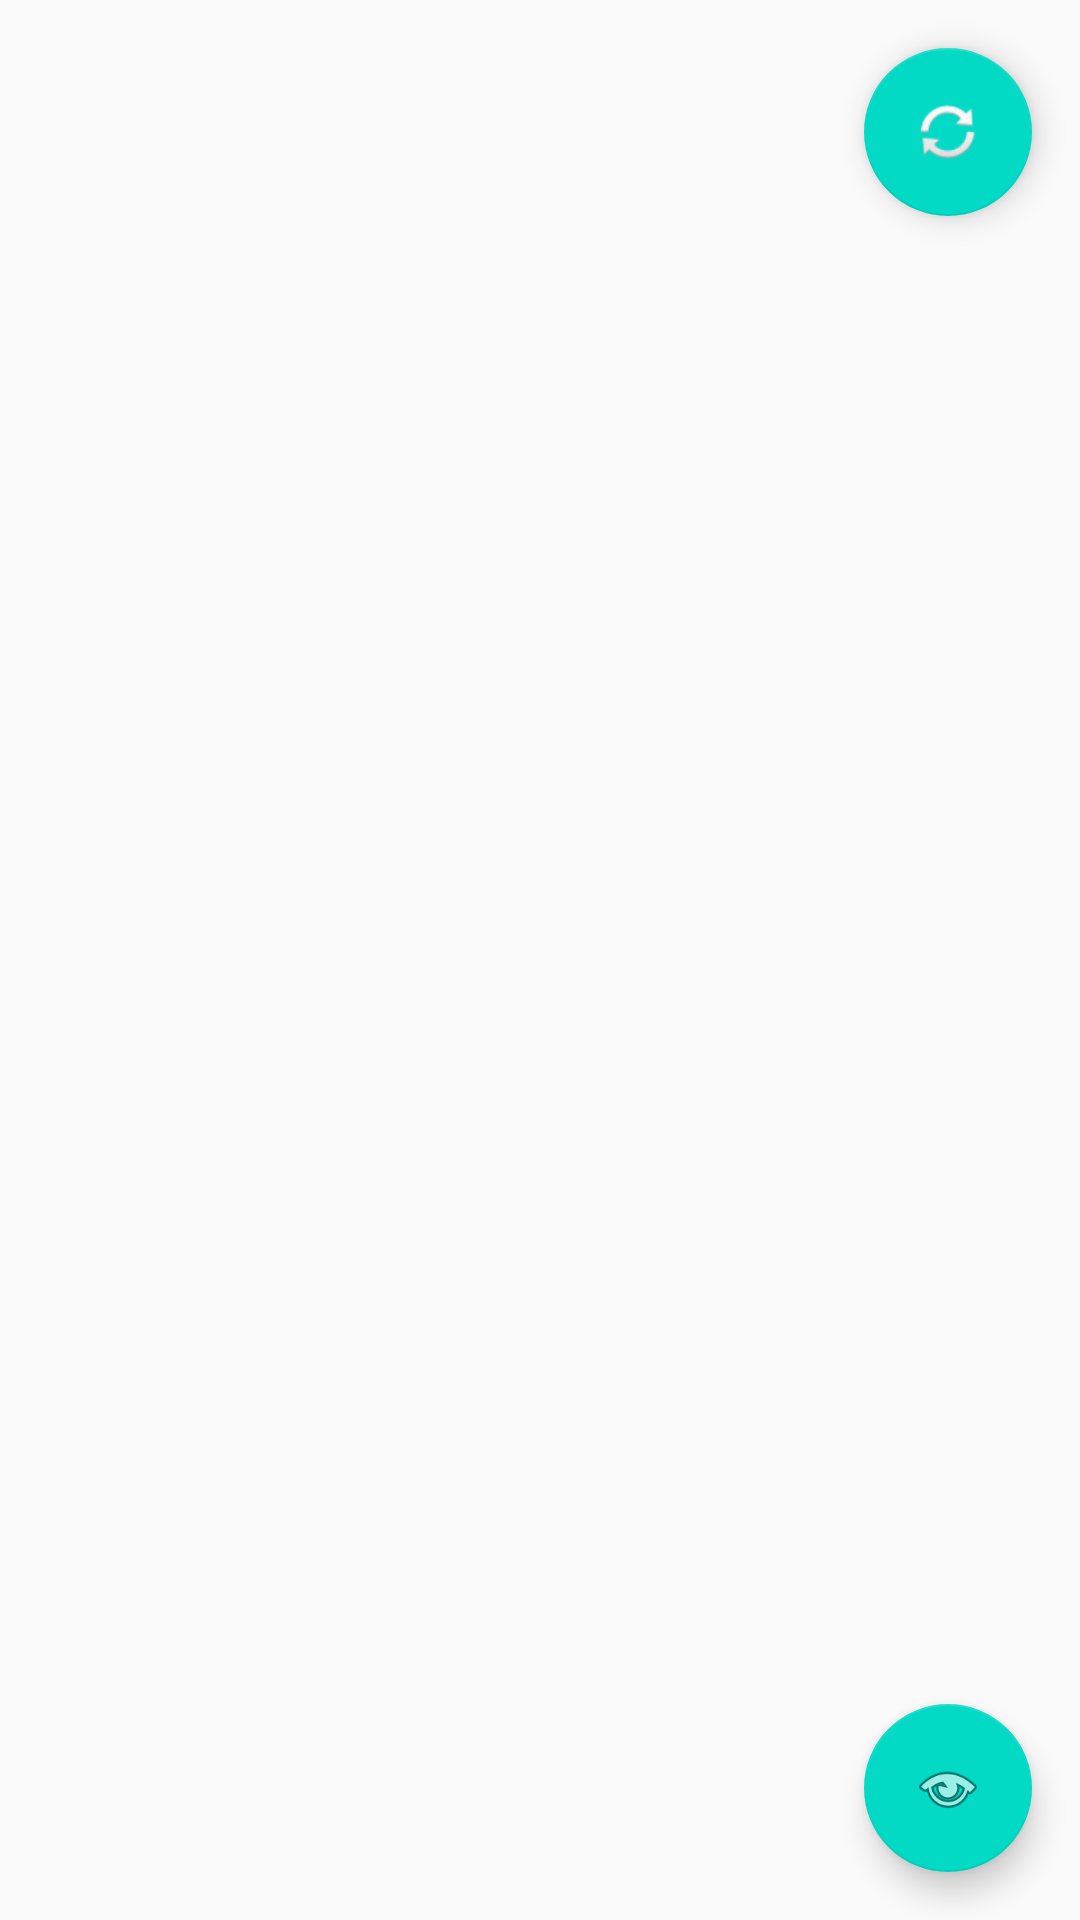

Icon bounding boxes for this 1080*1920 phone screenshot, format (x1, y1, x2, y2):
popup sync: (864, 48, 1032, 216)
view: (864, 1704, 1032, 1872)
